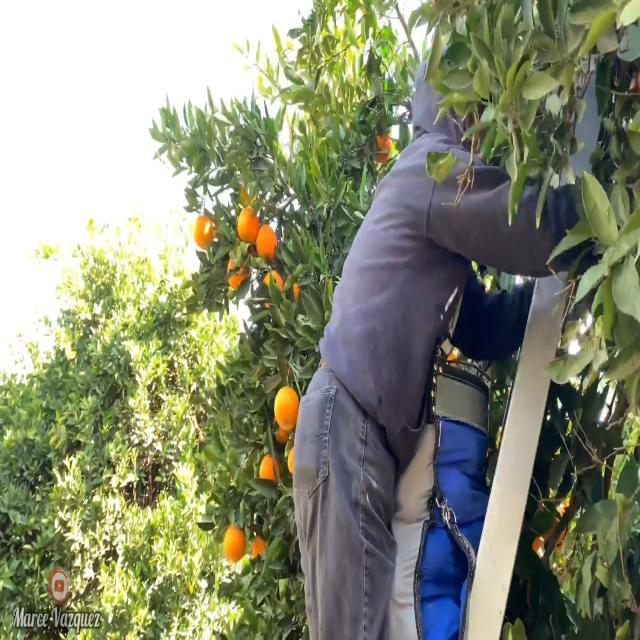Jeruk Sudah Matang: (272, 378, 302, 436), (219, 518, 249, 568), (235, 204, 263, 248), (256, 449, 283, 489), (254, 222, 279, 260), (192, 212, 218, 247)
